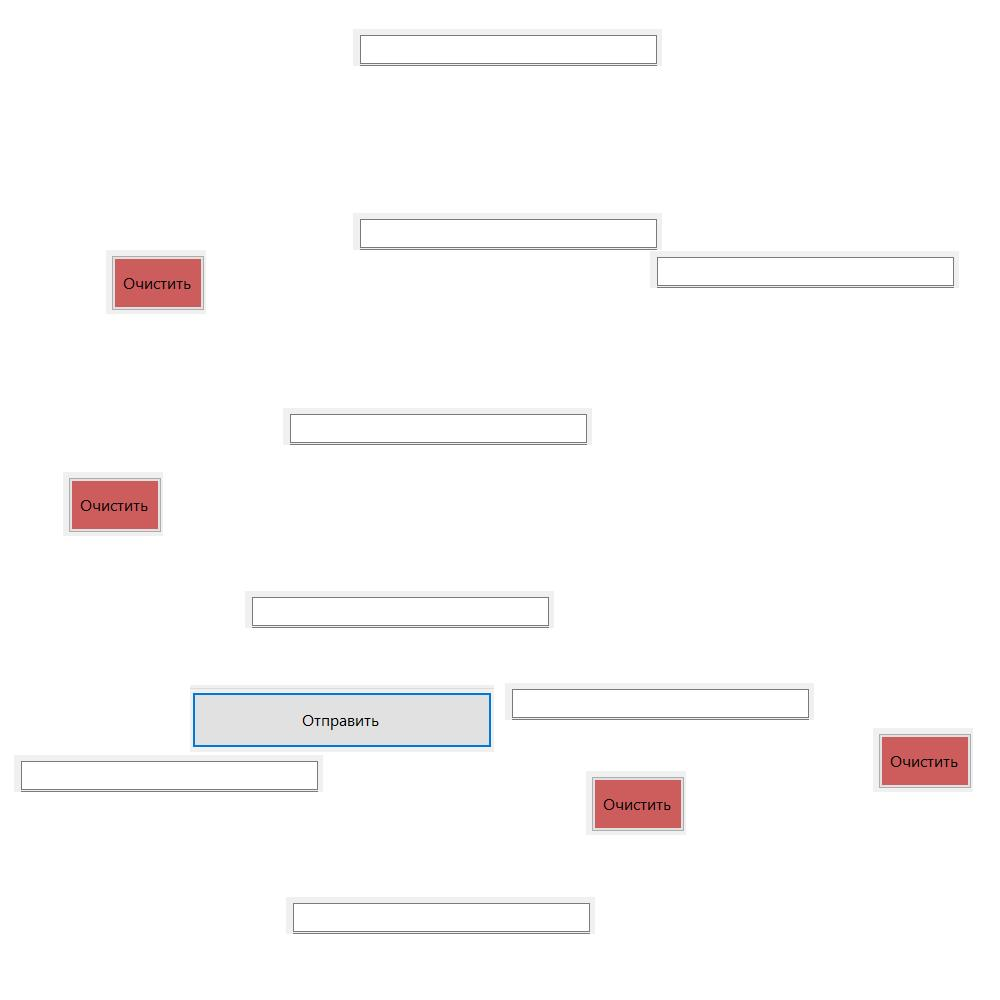Button: (190, 685, 494, 752), (873, 728, 973, 792), (106, 250, 206, 314), (63, 472, 163, 536), (586, 771, 686, 835)
EditText-: (353, 29, 662, 66), (245, 591, 554, 628), (353, 213, 662, 250), (505, 683, 814, 720), (283, 408, 592, 445), (650, 251, 959, 288), (286, 897, 595, 934), (14, 755, 323, 792)
